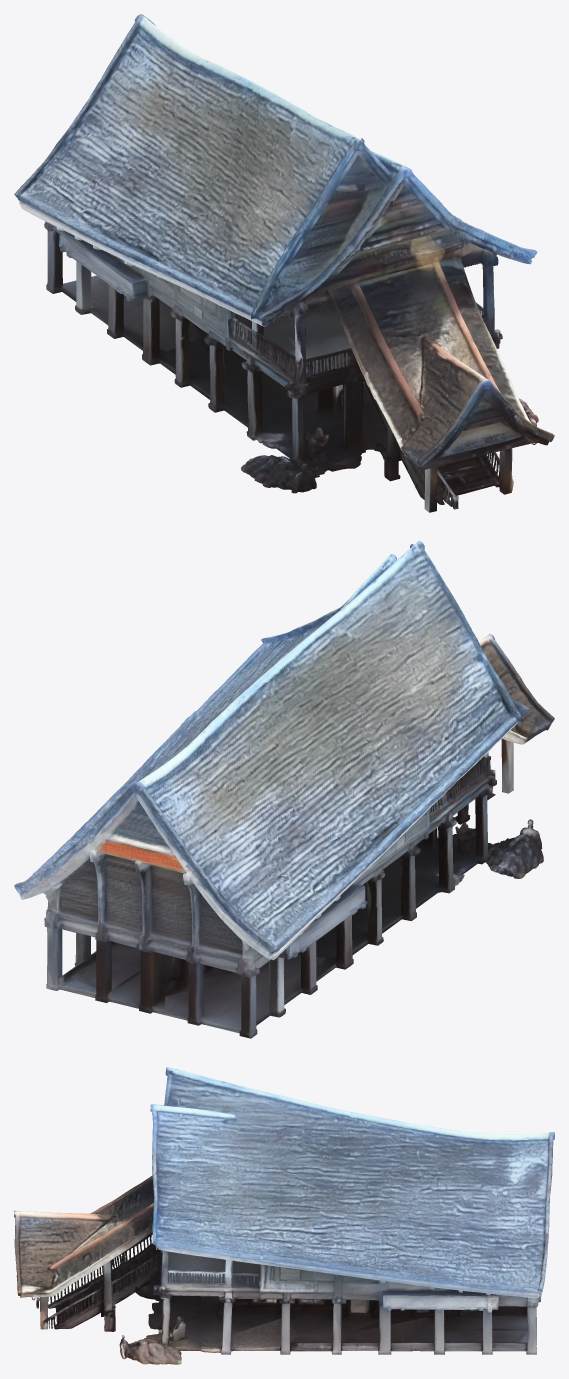
The model's file is laika.glb.
3 renders of one model, top to bottom at view 1: azimuth 30°, elevation 25°; view 2: azimuth 150°, elevation 25°; view 3: azimuth 270°, elevation 25°, orthographic. The views are drawn at different scales.
Visible parts, largest first — view 1: Rumah adat laika; view 2: Rumah adat laika; view 3: Rumah adat laika.
Part boxes in pixels (left/top/right/bottom): Rumah adat laika: left=14, top=14, right=554, bottom=512; Rumah adat laika: left=14, top=541, right=554, bottom=1038; Rumah adat laika: left=14, top=1067, right=554, bottom=1364.
Bounding box in the file's own units: 0.8662 × 0.9162 × 1.9.
Materials: 1 (1 with a texture image).
